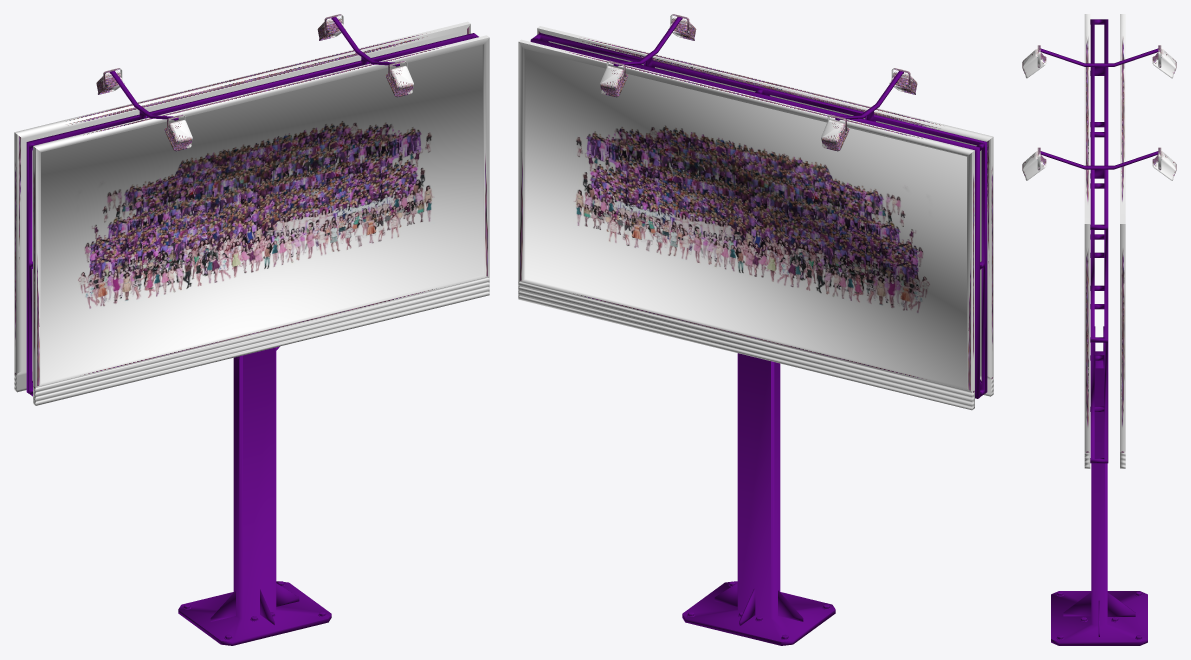
The model's file is valla_4.obj.
3 views of the same model, side by side, from view 1: azimuth 30°, elevation 25°; view 2: azimuth 150°, elevation 25°; view 3: azimuth 270°, elevation 25° (orthographic). The views are drawn at different scales.
Visible parts, largest first — view 1: __3_Box01, __3______Box03, __3_Box02, __3_Rectangle8; view 2: __3_Box02, __3______Box03, __3_Rectangle8, __3_Box01; view 3: __3______Box03, __3_Rectangle8, __3_Box01, __3_Box02, __3______Rectangle6, __3______Rectangle7, __3_________________2_Rectangl20, __3_________________1_Rectangl15, __3_________________0_Rectangl14, __3___________________Rectangle9.
Part boxes in pixels (x1,y1,x2,y2): __3_Box01: (33, 35, 489, 405); __3______Box03: (178, 347, 331, 645); __3_Box02: (14, 21, 470, 392); __3_Rectangle8: (26, 17, 478, 396); __3_Box02: (518, 39, 974, 410); __3______Box03: (682, 353, 835, 645); __3_Rectangle8: (530, 17, 987, 398); __3_Box01: (537, 26, 993, 396); __3______Box03: (1051, 351, 1147, 645); __3_Rectangle8: (1040, 19, 1158, 463); __3_Box01: (1084, 14, 1090, 468); __3_Box02: (1120, 14, 1125, 468); __3______Rectangle6: (1107, 592, 1135, 616); __3______Rectangle7: (1063, 592, 1091, 616); __3_________________2_Rectangl20: (1022, 49, 1046, 78); __3_________________1_Rectangl15: (1152, 49, 1176, 78); __3_________________0_Rectangl14: (1022, 151, 1046, 180); __3___________________Rectangle9: (1152, 151, 1176, 180).
Bounding box in the file's own units: 614 × 710 × 190.
Materials: 2 (1 with a texture image).
